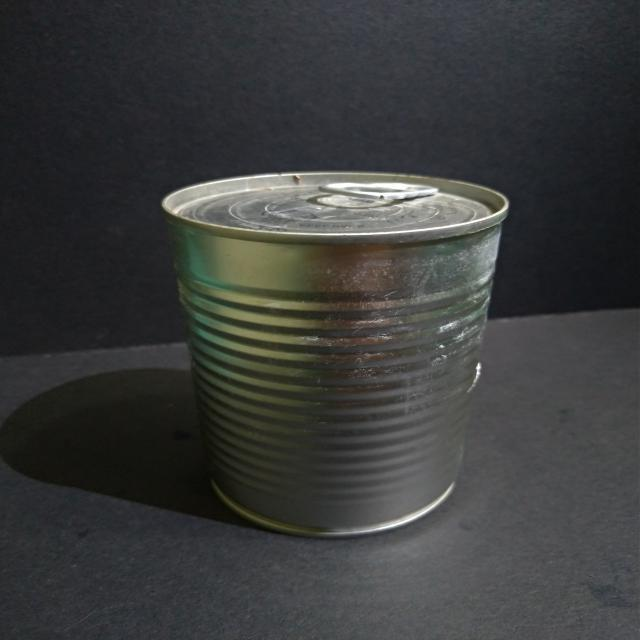metal: (162, 168, 516, 542)
